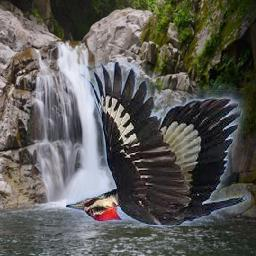Woodpecker: (67, 62, 252, 226)
